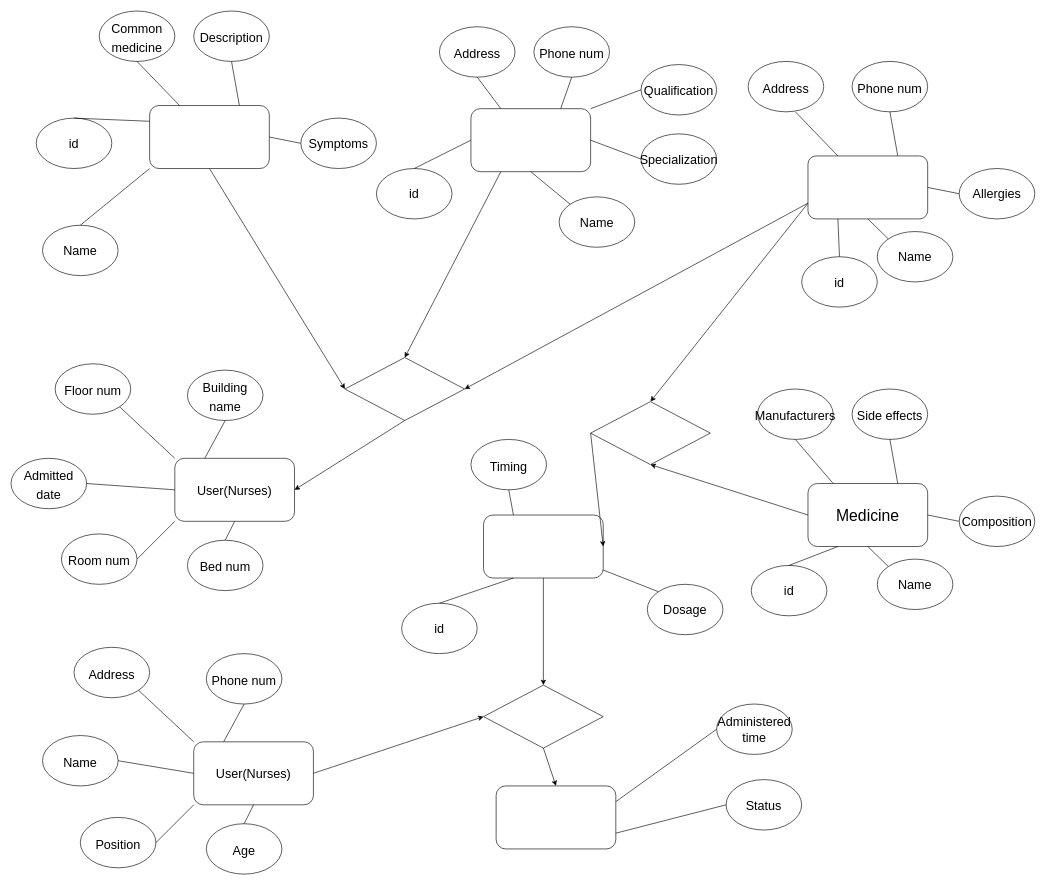
The diagram is 1046 pixels wide and 885 high, and some of its shapes have lost their labels. The centre of each missing label's shape, as x and y in pixels:
"Admitted" belongs at (x=404, y=389).
"Disease" belongs at (x=209, y=137).
"Doctor" belongs at (x=530, y=140).
"GIves" belongs at (x=543, y=716).
"Is Given" belongs at (x=650, y=433).
"Medication" belongs at (x=543, y=546).
"Medication History" belongs at (x=555, y=817).
"Patient" belongs at (x=867, y=187).
